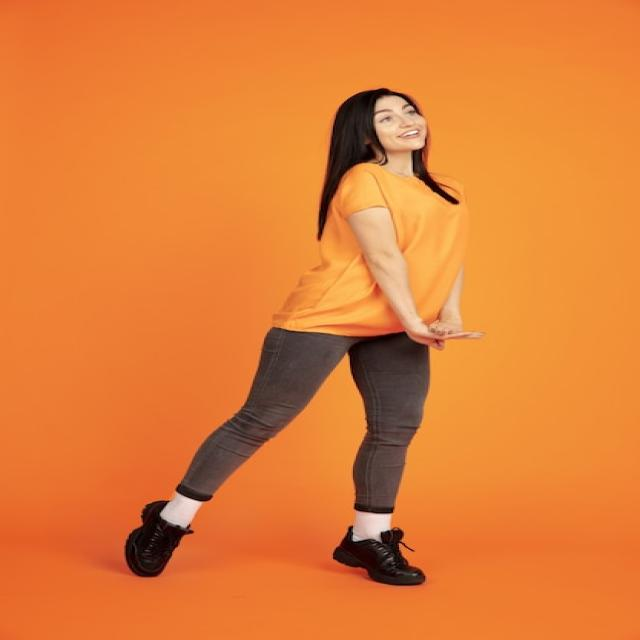Person: (127, 88, 486, 585)
